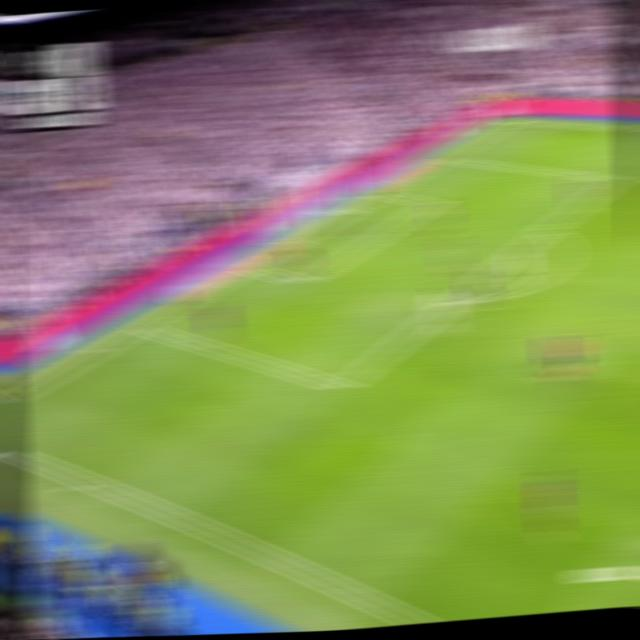bigarea_bottom_inner: (330, 375, 356, 399)
bigarea_bottom_outter: (131, 317, 156, 335)
bigarea_top_inner: (604, 172, 625, 185)
bigarea_top_outter: (433, 150, 457, 164)
bottom_arc_area_intersection: (445, 295, 464, 308)
corner: (500, 117, 521, 124)
smallarea_bottom_inner: (293, 274, 315, 288)
smallarea_bottom_outter: (239, 261, 261, 273)
smallarea_top_inner: (422, 196, 442, 208)
top_arc_area_intersection: (536, 220, 559, 238)
